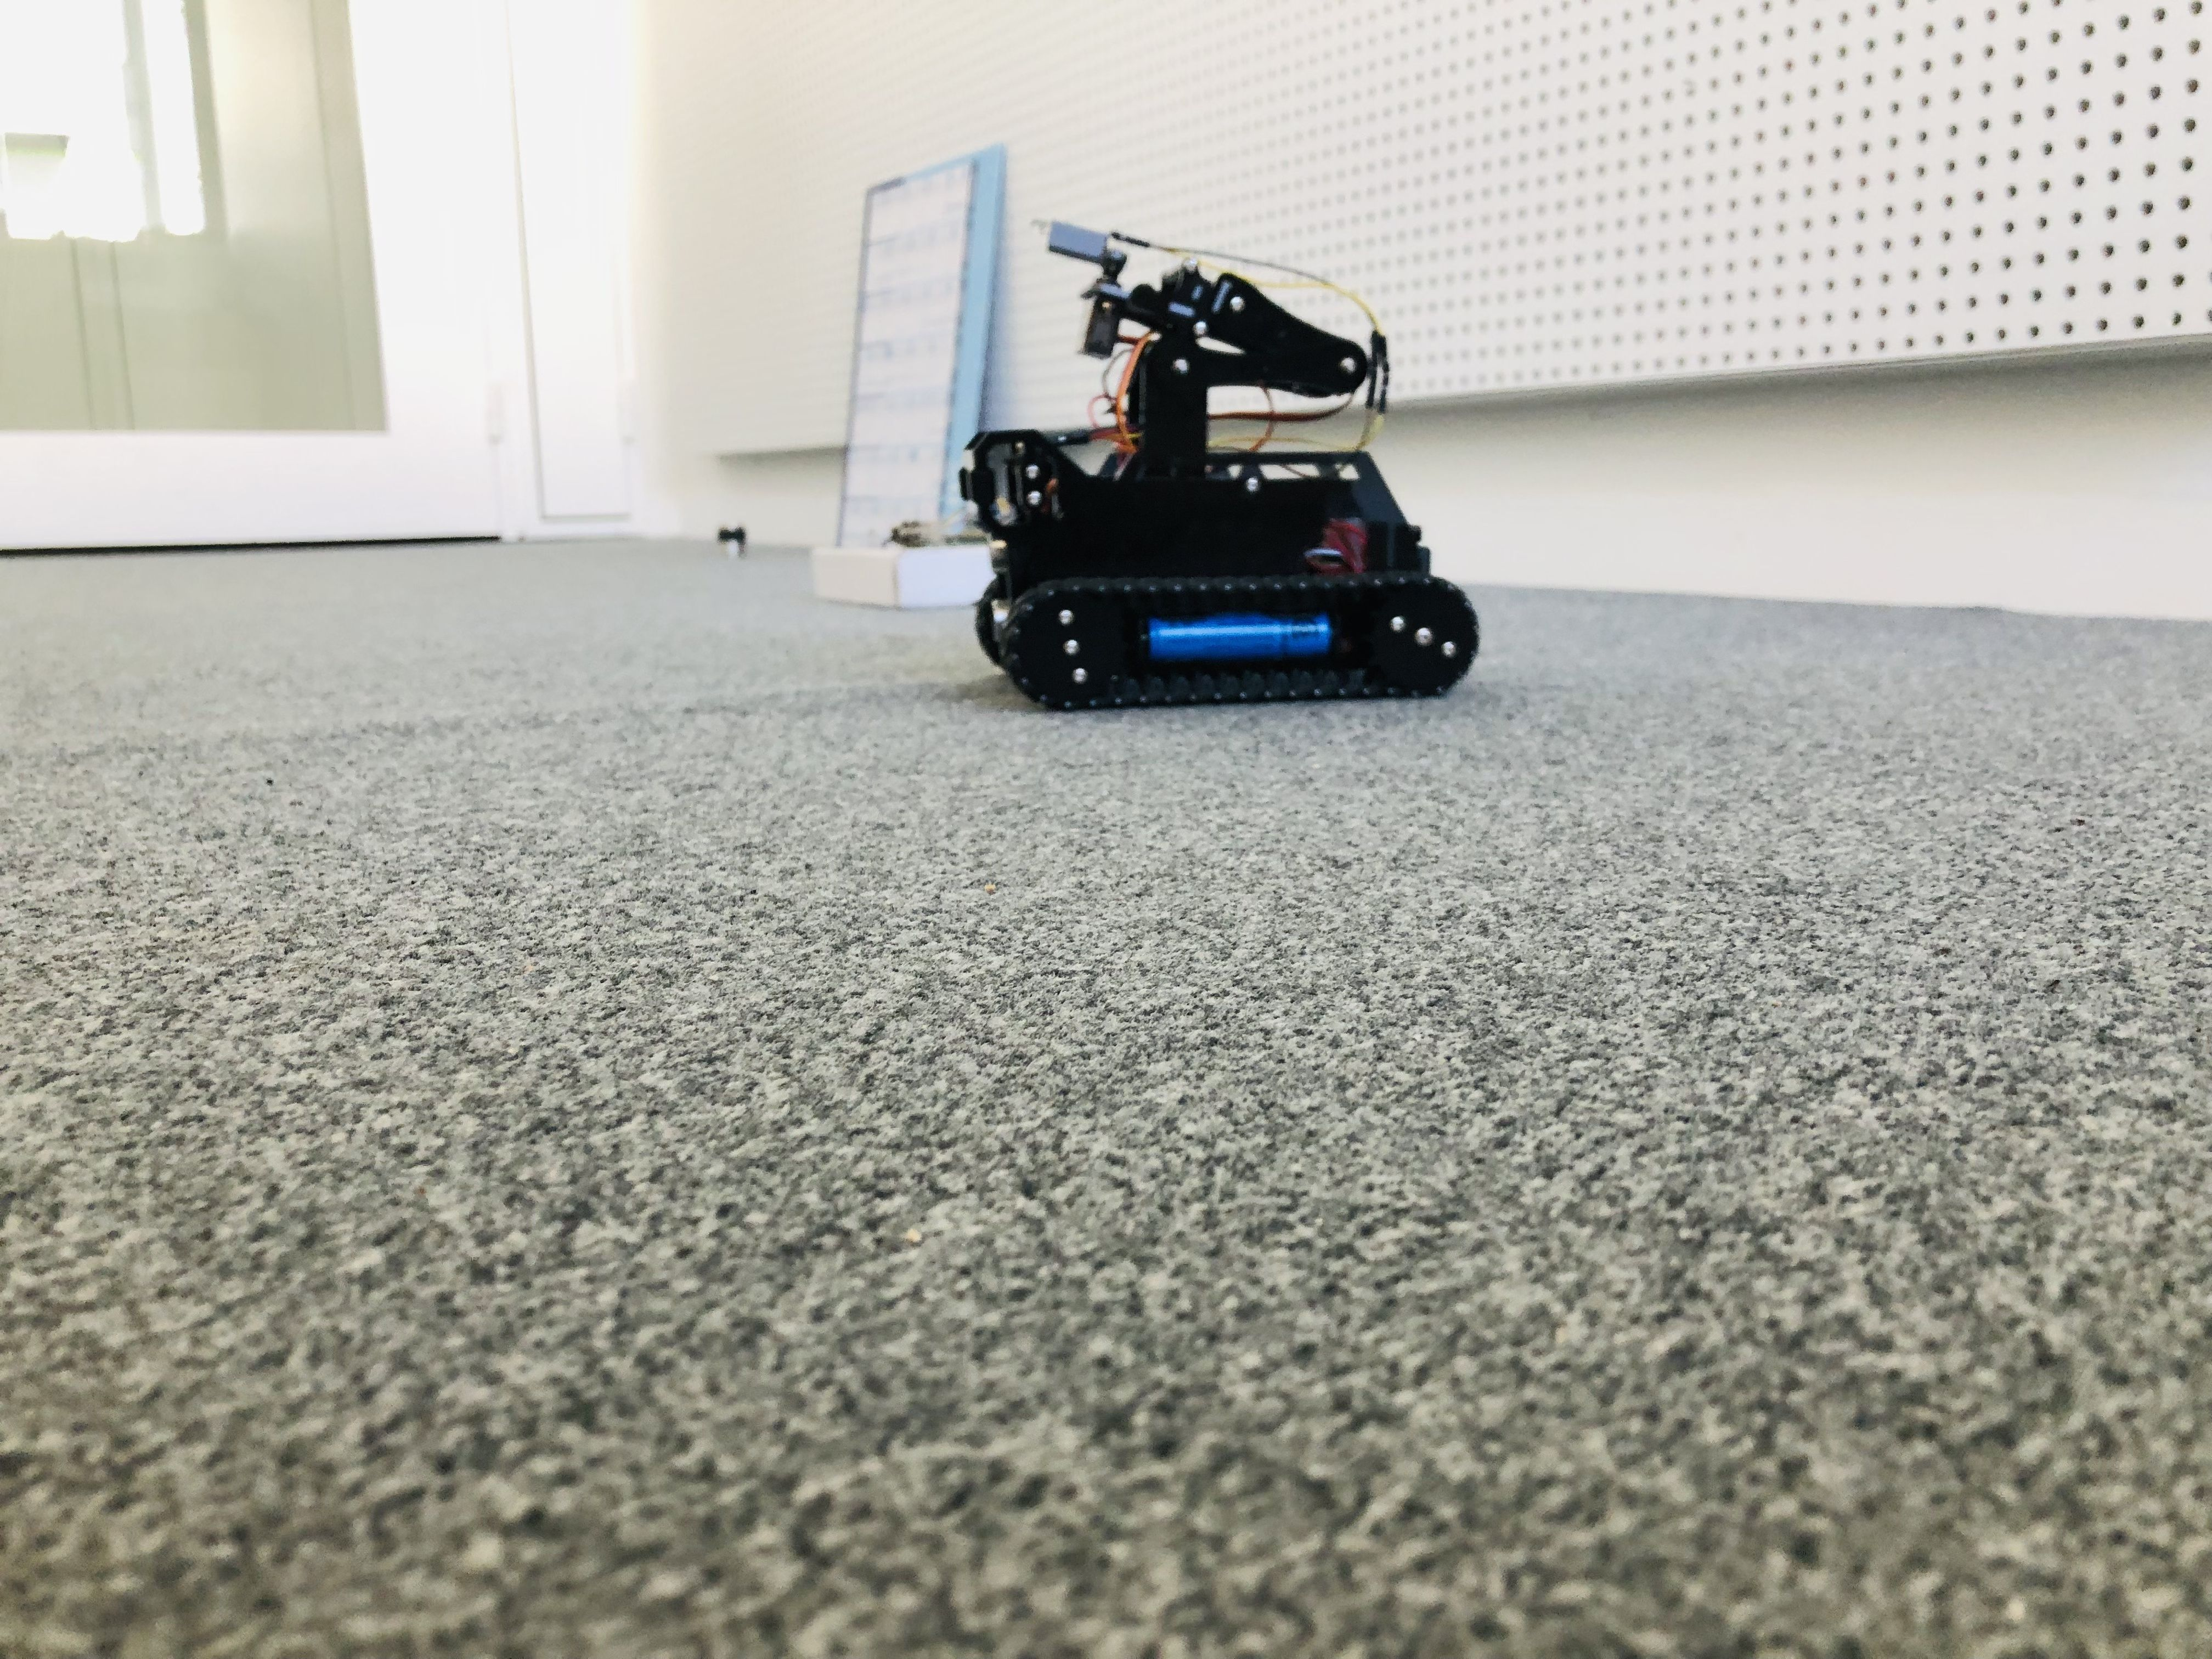rasptank: (954, 213, 1484, 716)
